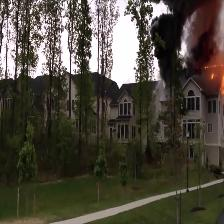smoke: (155, 9, 181, 70), (196, 4, 214, 64)
